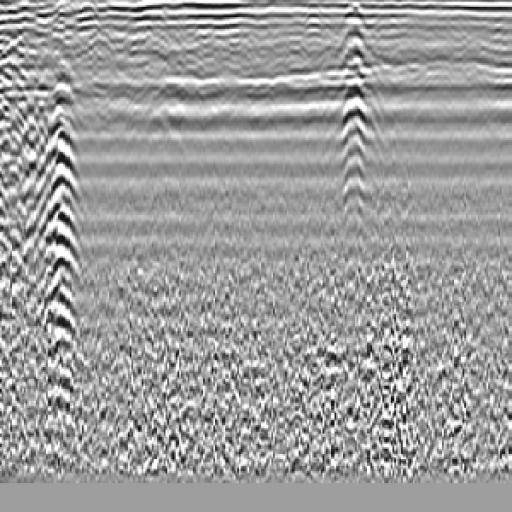non-metallic: (25, 50, 123, 452), (319, 1, 405, 242)
